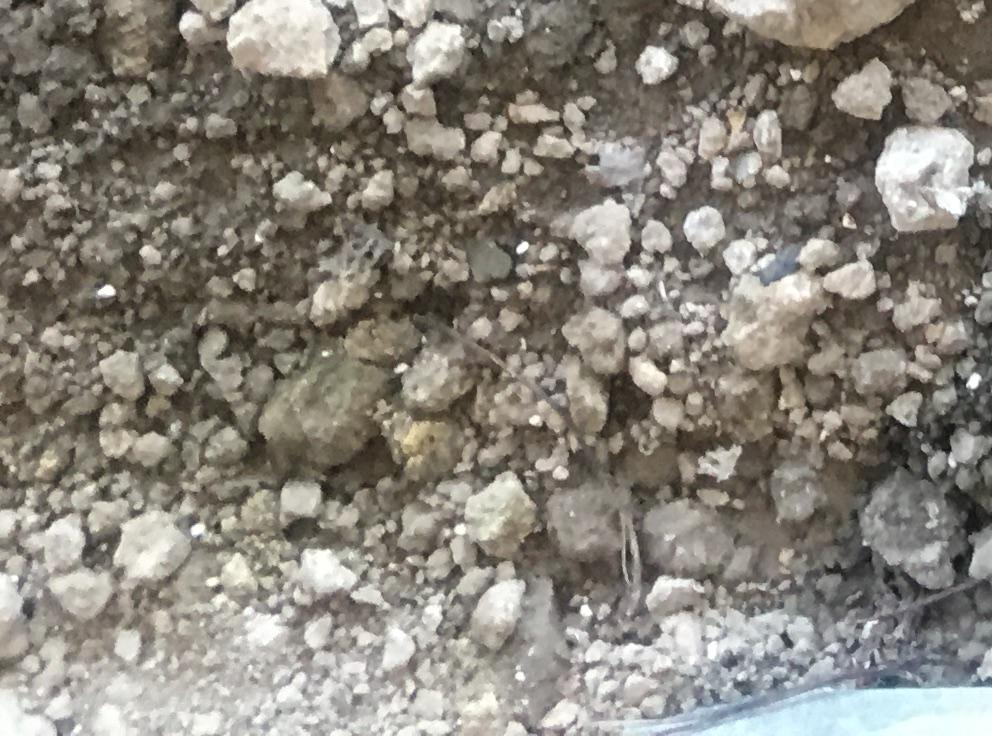block: (869, 122, 974, 237), (232, 1, 342, 87)
